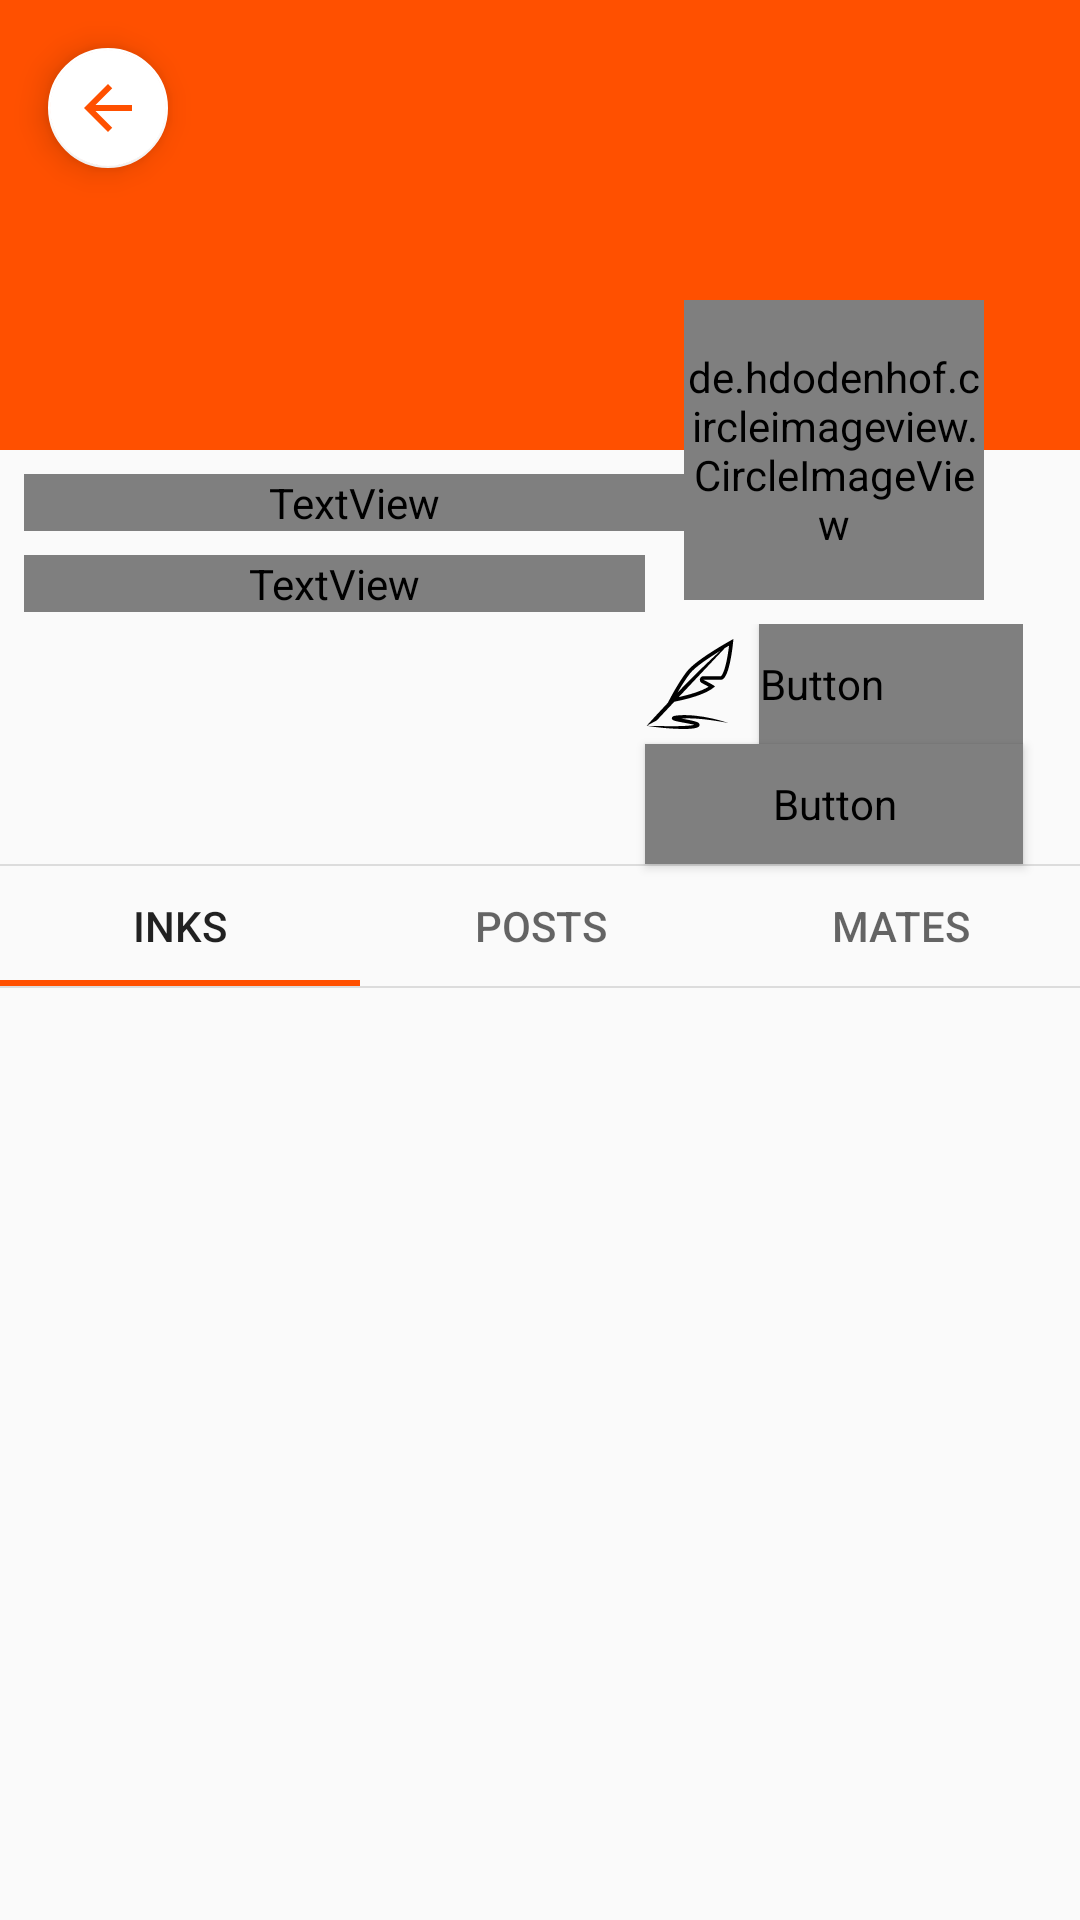

Where icons sit on this 1080w x 1920h app screen, as (x1, y1, x2, y2):
arrow back: (48, 48, 168, 168)
